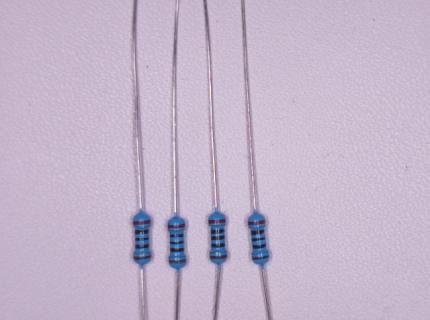Black band: (211, 242, 226, 249), (251, 236, 266, 243), (251, 229, 265, 236), (135, 229, 150, 235), (211, 229, 225, 235), (253, 243, 267, 249), (135, 237, 150, 242), (135, 244, 150, 249), (170, 248, 185, 253), (211, 236, 225, 241), (170, 241, 184, 245), (170, 234, 184, 238)
Brown band: (252, 254, 271, 261), (210, 254, 228, 260), (134, 255, 151, 261), (168, 259, 187, 264)
Red band: (248, 220, 266, 227), (208, 219, 227, 224), (133, 220, 151, 225), (168, 224, 186, 228)
